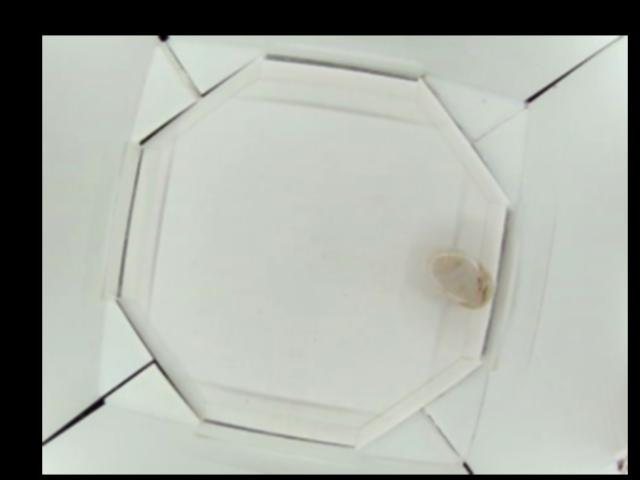Pebble: (432, 248, 495, 315)
